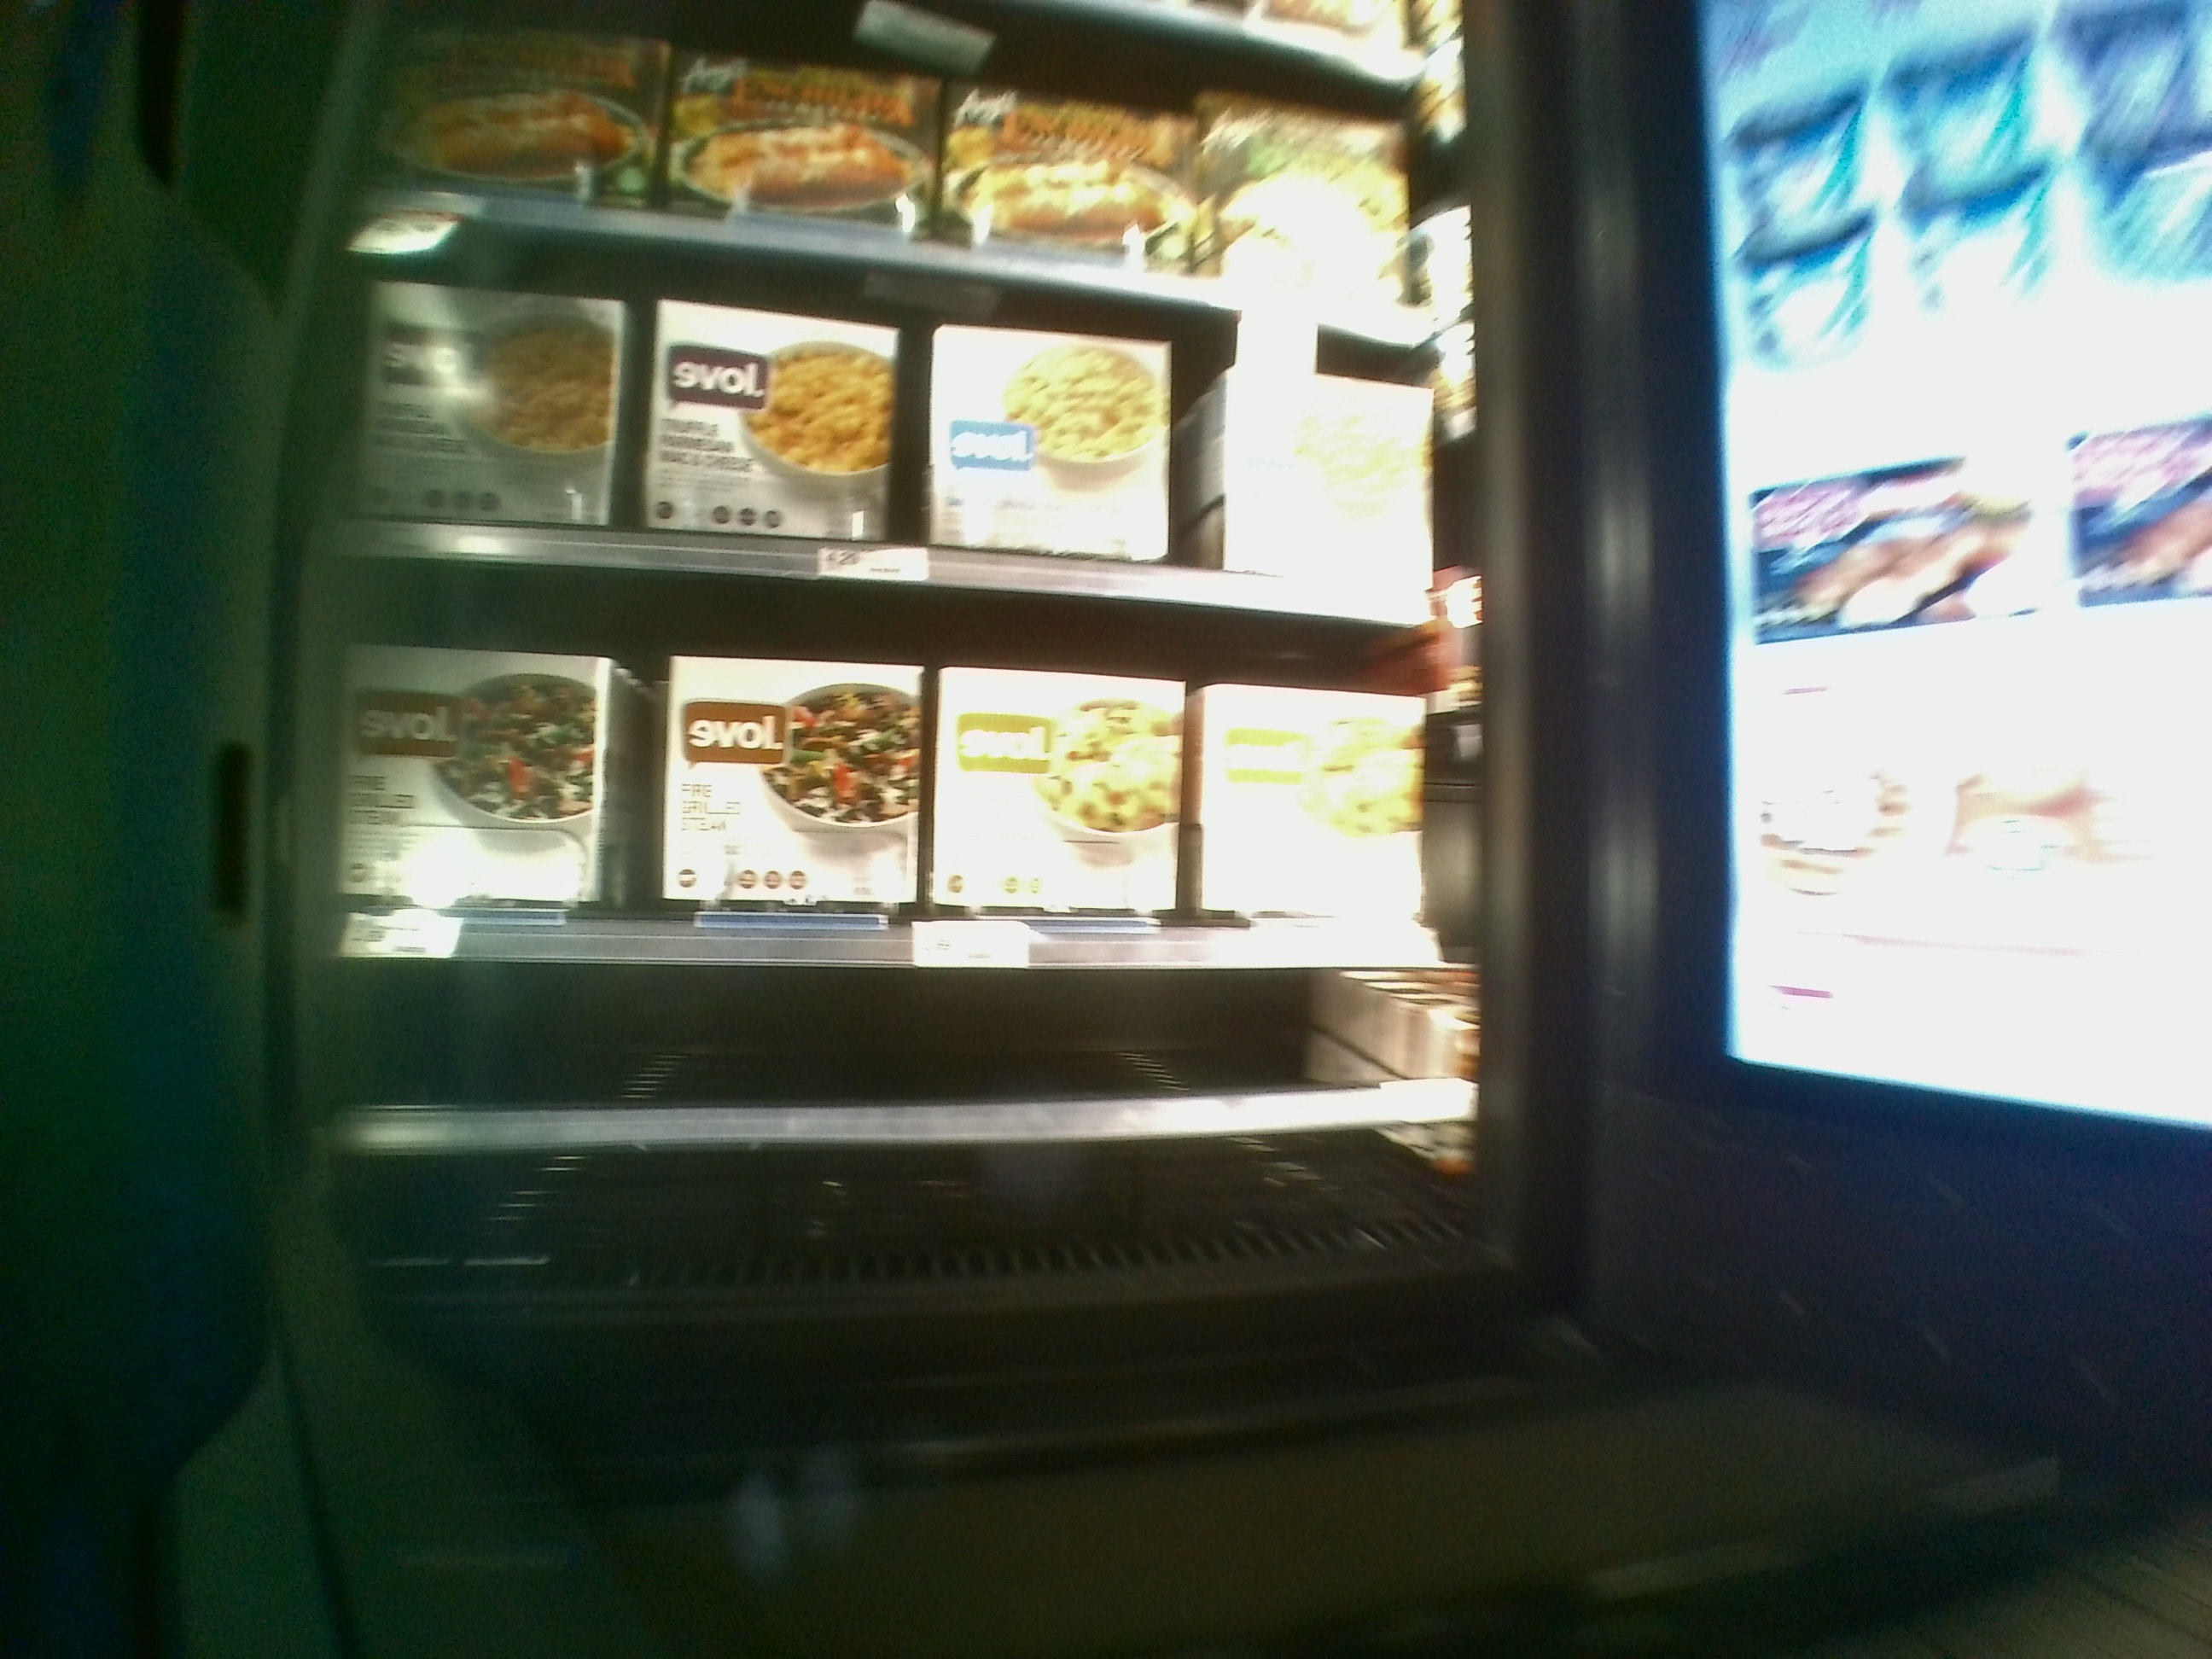shelf: (343, 603, 1487, 951), (333, 279, 1470, 594), (352, 958, 1489, 1263)
